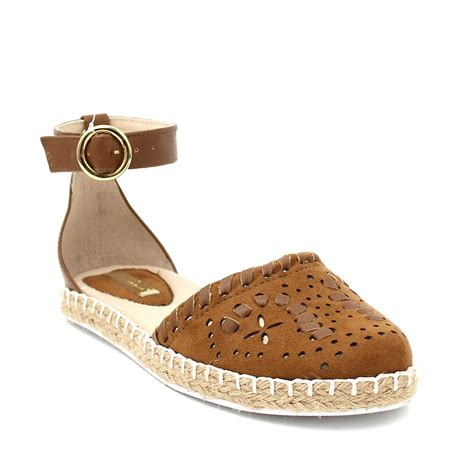gamuza: (154, 252, 414, 379)
